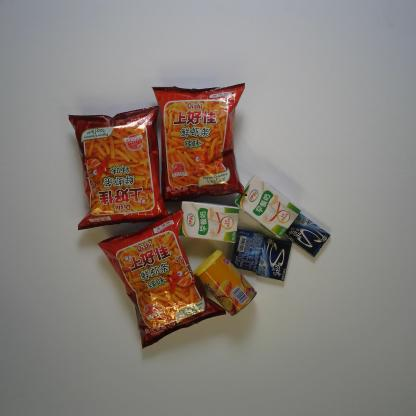Canned Food: (194, 250, 258, 316)
Gum: (284, 213, 330, 257), (257, 237, 292, 282), (232, 228, 264, 272)
Milk: (234, 174, 301, 238), (179, 201, 239, 243)
Puffed Food: (97, 208, 226, 350), (68, 105, 171, 231), (152, 82, 248, 200)
